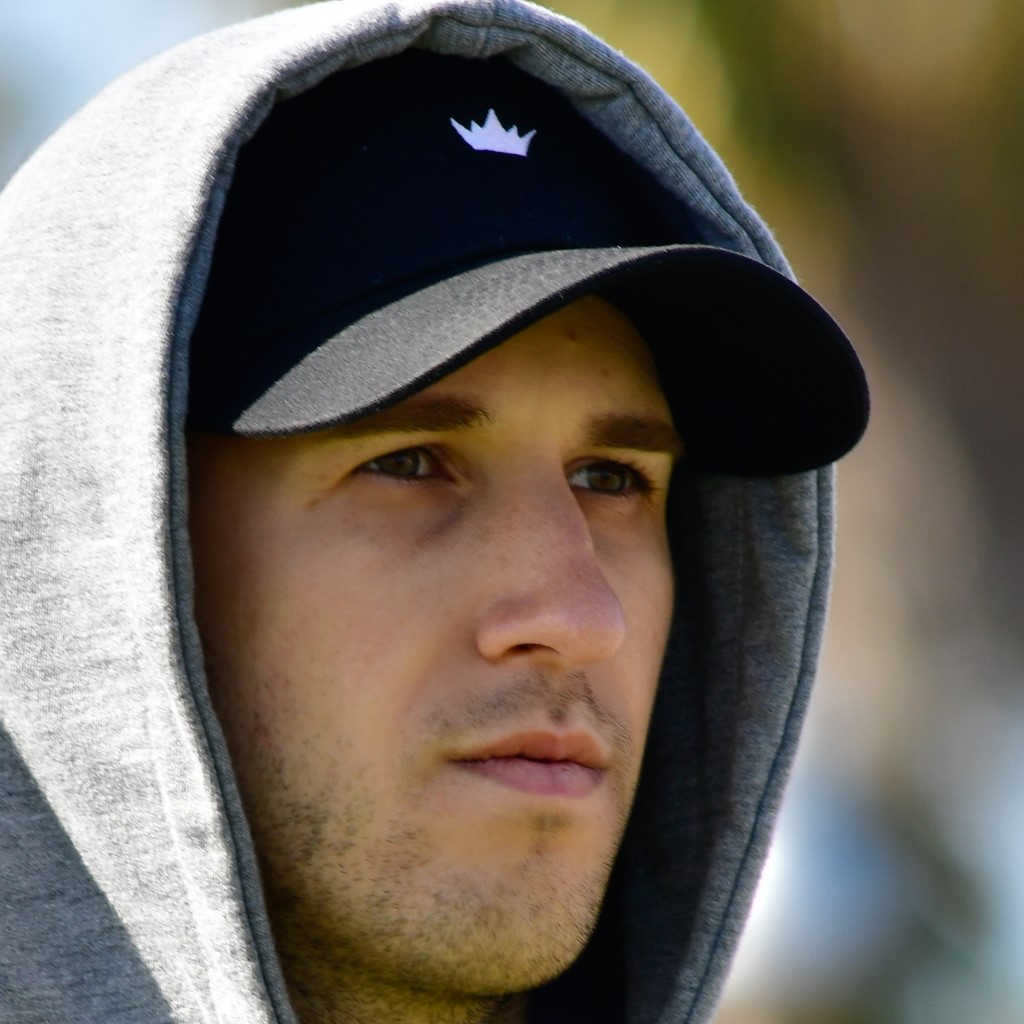sin_mascara: (174, 291, 753, 992)
